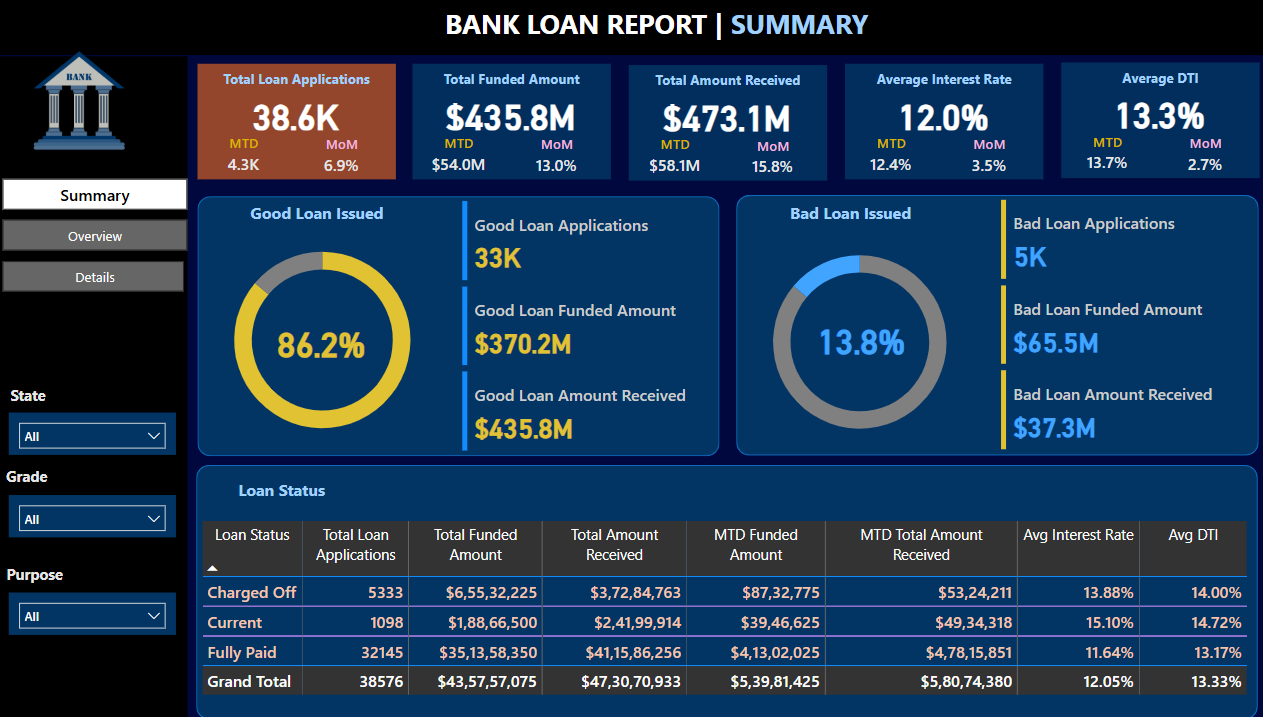

What the dashboard file says about the page in this screenshot:
{"tool":"powerbi","page":{"name":"Summary","canvas":[1280,720],"ordinal":0},"visuals":[{"type":"shape","box":[0,0,1280,55.5],"z":0},{"type":"shape","box":[1065.4,62.1,198.6,115.7],"z":0,"group":"g5"},{"type":"shape","box":[201.8,63.3,198.6,115.7],"z":0,"group":"g1"},{"type":"shape","box":[417.4,63.3,198.6,115.7],"z":0,"group":"g2"},{"type":"shape","box":[849.4,63.3,198.6,115.7],"z":0,"group":"g4"},{"type":"shape","box":[633.4,64.6,198.6,115.7],"z":0,"group":"g3"},{"type":"shape","box":[0,56,192.5,663.9],"z":1000},{"type":"card","fields":{"Values":["bank_loan_data.Avg DTI"]},"box":[1064.6,92.6,198.6,41.4],"z":1000,"group":"g5"},{"type":"card","fields":{"Values":["bank_loan_data.Total Loan Applications"]},"box":[201,93.8,198.6,41.4],"z":1000,"group":"g1"},{"type":"card","fields":{"Values":["bank_loan_data.Total Funded Amount"]},"box":[416.6,93.8,198.6,41.4],"z":1000,"group":"g2"},{"type":"card","fields":{"Values":["bank_loan_data.Avg Interest Rate"]},"box":[848.6,93.8,198.6,41.4],"z":1000,"group":"g4"},{"type":"card","fields":{"Values":["bank_loan_data.Total Amount Received"]},"box":[632.6,95.1,198.6,41.4],"z":1000,"group":"g3"},{"type":"textbox","box":[1065.4,63,198.6,32.9],"z":2000,"group":"g5"},{"type":"textbox","box":[201.8,64.2,198.6,32.9],"z":2000,"group":"g1"},{"type":"textbox","box":[417.4,64.2,198.6,32.9],"z":2000,"group":"g2"},{"type":"textbox","box":[849.4,64.2,198.6,32.9],"z":2000,"group":"g4"},{"type":"textbox","box":[633.4,65.5,198.6,32.9],"z":2000,"group":"g3"},{"type":"shape","box":[202.2,196.1,522,260],"z":2000},{"type":"card","title":"MTD","fields":{"Values":["bank_loan_data.MTD Avg DTI"]},"box":[1071.9,132.3,80.4,43.9],"z":3000,"group":"g5"},{"type":"card","title":"MTD","fields":{"Values":["bank_loan_data.MTD Loan Applications"]},"box":[208.3,133.5,80.4,43.9],"z":3000,"group":"g1"},{"type":"card","title":"MTD","fields":{"Values":["bank_loan_data.MTD Funded Amount"]},"box":[423.9,133.5,80.4,43.9],"z":3000,"group":"g2"},{"type":"card","title":"MTD","fields":{"Values":["bank_loan_data.MTD Avg Int Rate"]},"box":[855.9,133.5,80.4,43.9],"z":3000,"group":"g4"},{"type":"card","title":"MTD","fields":{"Values":["bank_loan_data.MTD Total Amount Received"]},"box":[639.9,134.8,80.4,43.9],"z":3000,"group":"g3"},{"type":"card","fields":{"Values":["bank_loan_data.Good Loan %"]},"box":[272.9,321.6,107.2,41.4],"z":3000},{"type":"card","title":"MoM","fields":{"Values":["bank_loan_data.MoM Avg DTI"]},"box":[1165.7,133.9,88.9,43.9],"z":4000,"group":"g5"},{"type":"card","title":"MoM","fields":{"Values":["bank_loan_data.MoM Loan Application"]},"box":[302.1,135.1,88.9,43.9],"z":4000,"group":"g1"},{"type":"card","title":"MoM","fields":{"Values":["bank_loan_data.MoM Total Funded Amount"]},"box":[517.7,135.1,88.9,43.9],"z":4000,"group":"g2"},{"type":"card","title":"MoM","fields":{"Values":["bank_loan_data.MoM Avg Int Rate"]},"box":[949.7,135.1,88.9,43.9],"z":4000,"group":"g4"},{"type":"card","title":"MoM","fields":{"Values":["bank_loan_data.MoM Total Amount Received"]},"box":[733.7,136.4,88.9,43.9],"z":4000,"group":"g3"},{"type":"textbox","box":[227.8,196.1,188.8,32.9],"z":4000},{"type":"textbox","box":[444.6,0,448.3,47.5],"z":5000},{"type":"group","id":"g1","title":"Group 1","box":[201,63.3,199.3,115.7],"z":6000},{"type":"group","id":"g2","title":"Group 1","box":[416.6,63.3,199.8,115.7],"z":7000},{"type":"group","id":"g3","title":"Group 1","box":[632.6,64.6,199.8,115.7],"z":8000},{"type":"group","id":"g4","title":"Group 1","box":[848.6,63.3,199.8,115.7],"z":9000},{"type":"group","id":"g5","title":"Group 1","box":[1064.6,62.1,199.8,115.7],"z":10000},{"type":"donutChart","fields":{"Category":["bank_loan_data.Good vs Bad Loan"],"Y":["bank_loan_data.Total Loan Applications"]},"box":[202.2,225.4,249.7,230.2],"z":11000},{"type":"shape","box":[741.8,194.9,522.6,260.7],"z":12000},{"type":"cardVisual","fields":{"Data":["bank_loan_data.Good Loan Applications","bank_loan_data.Good Loan Funded Amount","bank_loan_data.Good Loan Amount Received"]},"box":[462.9,196.1,261.9,260.7],"z":13000},{"type":"textbox","box":[761.3,196.1,188.8,32.9],"z":14000},{"type":"donutChart","fields":{"Category":["bank_loan_data.Good vs Bad Loan"],"Y":["bank_loan_data.Total Loan Applications"]},"box":[740.6,229,249.7,226.6],"z":15000},{"type":"card","fields":{"Values":["bank_loan_data.Bad Loan %"]},"box":[812.5,319.1,107.2,41.4],"z":16000},{"type":"cardVisual","fields":{"Data":["bank_loan_data.Bad Loan Applications","bank_loan_data.Bad Loan Funded Amount","bank_loan_data.Bad Loan Amount Received"]},"box":[1001.3,194.9,261.9,260.7],"z":17000},{"type":"shape","box":[201,465.3,1062.2,254.6],"z":18000},{"type":"tableEx","fields":{"Values":["bank_loan_data.loan_status","bank_loan_data.Total Loan Applications","bank_loan_data.Total Funded Amount","bank_loan_data.Total Amount Received","bank_loan_data.MTD Funded Amount","bank_loan_data.MTD Total Amount Received","bank_loan_data.Avg Interest Rate","bank_loan_data.Avg DTI"]},"box":[201,516.5,1062.2,192.5],"z":19000},{"type":"textbox","box":[227.8,473.8,118.2,32.9],"z":20000},{"type":"slicer","fields":{"Values":["bank_loan_data.address_state"]},"box":[13.4,412.9,166.9,42.6],"z":21000},{"type":"textbox","box":[2.4,380.1,60.9,32.9],"z":22000},{"type":"slicer","fields":{"Values":["bank_loan_data.grade"]},"box":[13.4,494.6,166.9,42.6],"z":23000},{"type":"textbox","box":[0,461.7,63.3,32.9],"z":24000},{"type":"slicer","fields":{"Values":["bank_loan_data.purpose"]},"box":[13.4,592,166.9,42.6],"z":25000},{"type":"textbox","box":[2.4,559.1,74.3,32.9],"z":26000},{"type":"image","box":[13.3,27.7,141.2,146],"z":26001},{"type":"pageNavigator","box":[7.2,178.6,185.8,114.6],"z":26002}]}

Visuals, with their boxes in screenshot pixels (x1, y1, x2, y2), scaled from the page's 1280x720 canvas onto the 1263x717 screenshot:
shape: (x1=0, y1=0, x2=1262, y2=55)
shape: (x1=1051, y1=62, x2=1247, y2=177)
shape: (x1=199, y1=63, x2=395, y2=178)
shape: (x1=412, y1=63, x2=608, y2=178)
shape: (x1=838, y1=63, x2=1034, y2=178)
shape: (x1=625, y1=64, x2=821, y2=180)
shape: (x1=0, y1=56, x2=190, y2=716)
card - bank_loan_data.Avg DTI: (x1=1050, y1=92, x2=1246, y2=133)
card - bank_loan_data.Total Loan Applications: (x1=198, y1=93, x2=394, y2=135)
card - bank_loan_data.Total Funded Amount: (x1=411, y1=93, x2=607, y2=135)
card - bank_loan_data.Avg Interest Rate: (x1=837, y1=93, x2=1033, y2=135)
card - bank_loan_data.Total Amount Received: (x1=624, y1=95, x2=820, y2=136)
textbox: (x1=1051, y1=63, x2=1247, y2=96)
textbox: (x1=199, y1=64, x2=395, y2=97)
textbox: (x1=412, y1=64, x2=608, y2=97)
textbox: (x1=838, y1=64, x2=1034, y2=97)
textbox: (x1=625, y1=65, x2=821, y2=98)
shape: (x1=200, y1=195, x2=715, y2=454)
"MTD" card: (x1=1058, y1=132, x2=1137, y2=175)
"MTD" card: (x1=206, y1=133, x2=285, y2=177)
"MTD" card: (x1=418, y1=133, x2=498, y2=177)
"MTD" card: (x1=845, y1=133, x2=924, y2=177)
"MTD" card: (x1=631, y1=134, x2=711, y2=178)
card - bank_loan_data.Good Loan %: (x1=269, y1=320, x2=375, y2=361)
"MoM" card: (x1=1150, y1=133, x2=1238, y2=177)
"MoM" card: (x1=298, y1=135, x2=386, y2=178)
"MoM" card: (x1=511, y1=135, x2=599, y2=178)
"MoM" card: (x1=937, y1=135, x2=1025, y2=178)
"MoM" card: (x1=724, y1=136, x2=812, y2=180)
textbox: (x1=225, y1=195, x2=411, y2=228)
textbox: (x1=439, y1=0, x2=881, y2=47)
"Group 1" group: (x1=198, y1=63, x2=395, y2=178)
"Group 1" group: (x1=411, y1=63, x2=608, y2=178)
"Group 1" group: (x1=624, y1=64, x2=821, y2=180)
"Group 1" group: (x1=837, y1=63, x2=1034, y2=178)
"Group 1" group: (x1=1050, y1=62, x2=1248, y2=177)
donutChart - bank_loan_data.Good vs Bad Loan x bank_loan_data.Total Loan Applications: (x1=200, y1=224, x2=446, y2=454)
shape: (x1=732, y1=194, x2=1248, y2=454)
cardVisual - bank_loan_data.Good Loan Applications x bank_loan_data.Good Loan Funded Amount: (x1=457, y1=195, x2=715, y2=455)
textbox: (x1=751, y1=195, x2=937, y2=228)
donutChart - bank_loan_data.Good vs Bad Loan x bank_loan_data.Total Loan Applications: (x1=731, y1=228, x2=977, y2=454)
card - bank_loan_data.Bad Loan %: (x1=802, y1=318, x2=907, y2=359)
cardVisual - bank_loan_data.Bad Loan Applications x bank_loan_data.Bad Loan Funded Amount: (x1=988, y1=194, x2=1246, y2=454)
shape: (x1=198, y1=463, x2=1246, y2=716)
tableEx - bank_loan_data.loan_status x bank_loan_data.Total Loan Applications: (x1=198, y1=514, x2=1246, y2=706)
textbox: (x1=225, y1=472, x2=341, y2=505)
slicer - bank_loan_data.address_state: (x1=13, y1=411, x2=178, y2=454)
textbox: (x1=2, y1=379, x2=62, y2=411)
slicer - bank_loan_data.grade: (x1=13, y1=493, x2=178, y2=535)
textbox: (x1=0, y1=460, x2=62, y2=493)
slicer - bank_loan_data.purpose: (x1=13, y1=590, x2=178, y2=632)
textbox: (x1=2, y1=557, x2=76, y2=590)
image: (x1=13, y1=28, x2=152, y2=173)
pageNavigator: (x1=7, y1=178, x2=190, y2=292)
